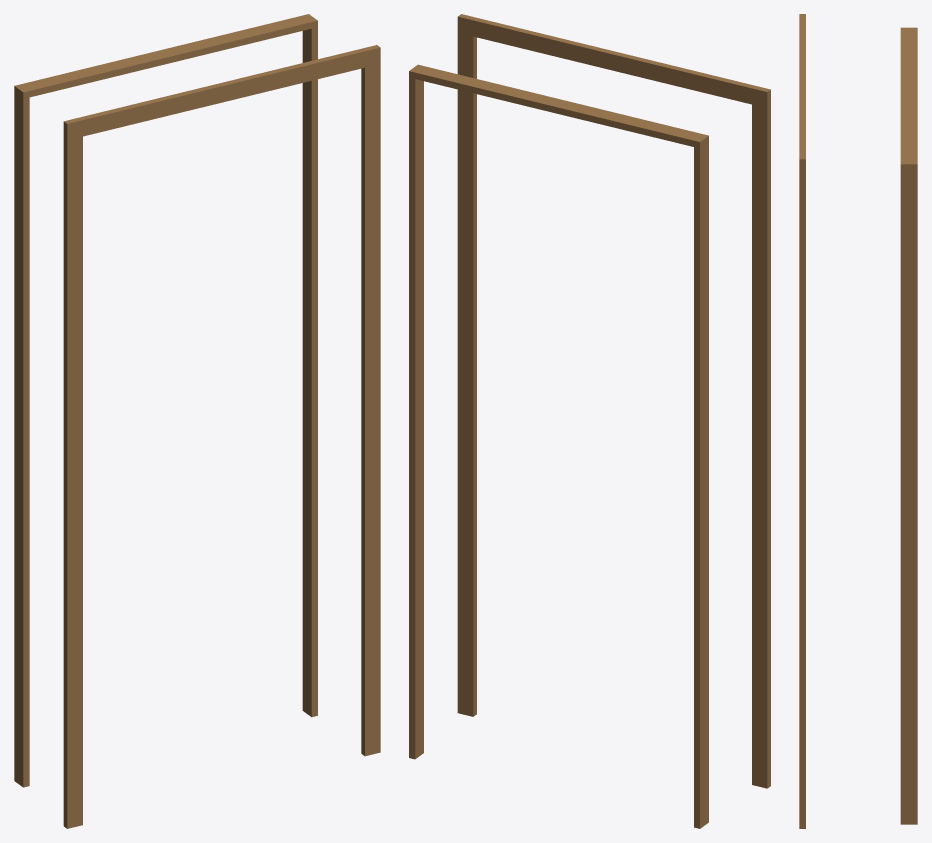
Rendered from frame_bronze.glb.
The picture shows the model from 3 angles, left to right: view 1: azimuth 30°, elevation 25°; view 2: azimuth 150°, elevation 25°; view 3: azimuth 270°, elevation 25°; orthographic projection. The views are drawn at different scales.
Visible parts, largest first — view 1: Lift_Frame_L, Lift_Frame_R, Jamb_L, Jamb_R, Lift_Frame_T, Jamb_Top; view 2: Lift_Frame_R, Lift_Frame_L, Jamb_L, Jamb_R, Lift_Frame_T, Jamb_Top; view 3: Jamb_R, Lift_Frame_R, Jamb_Top, Lift_Frame_T.
Part boxes in pixels (bbox=[...]): Lift_Frame_L: bbox=[63, 118, 82, 828]; Lift_Frame_R: bbox=[361, 45, 380, 756]; Jamb_L: bbox=[14, 92, 29, 787]; Jamb_R: bbox=[302, 27, 317, 717]; Lift_Frame_T: bbox=[64, 45, 380, 139]; Jamb_Top: bbox=[14, 14, 317, 98]; Lift_Frame_R: bbox=[457, 14, 476, 716]; Lift_Frame_L: bbox=[752, 86, 770, 788]; Jamb_L: bbox=[694, 142, 708, 828]; Jamb_R: bbox=[409, 77, 423, 759]; Lift_Frame_T: bbox=[457, 14, 770, 108]; Jamb_Top: bbox=[409, 64, 708, 148]; Jamb_R: bbox=[900, 170, 917, 824]; Lift_Frame_R: bbox=[799, 152, 805, 828]; Jamb_Top: bbox=[900, 27, 917, 170]; Lift_Frame_T: bbox=[799, 21, 805, 174].
Bounding box in the file's own units: 1 × 2.15 × 0.345.
